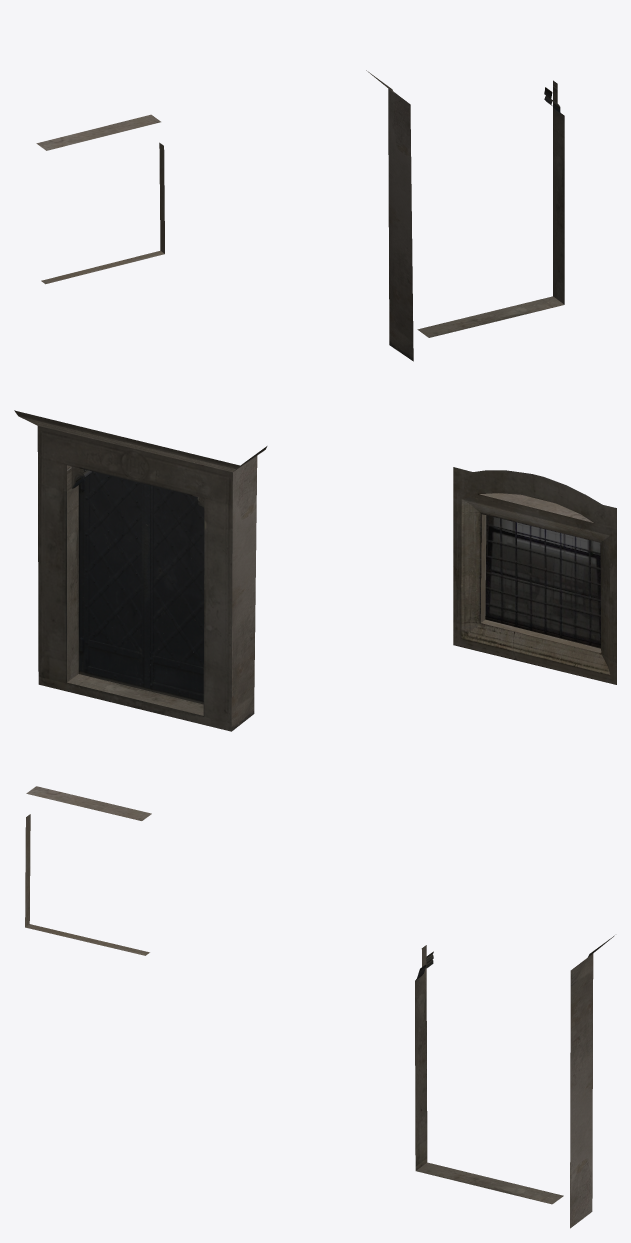
The model's file is Sponza72.gltf.
3 views of the same model, one above another, from view 1: azimuth 30°, elevation 25°; view 2: azimuth 150°, elevation 25°; view 3: azimuth 330°, elevation 25° (orthographic).
Bounding box in the file's own units: 4.41 × 2.33 × 0.406.
1 material, 1 textured.
